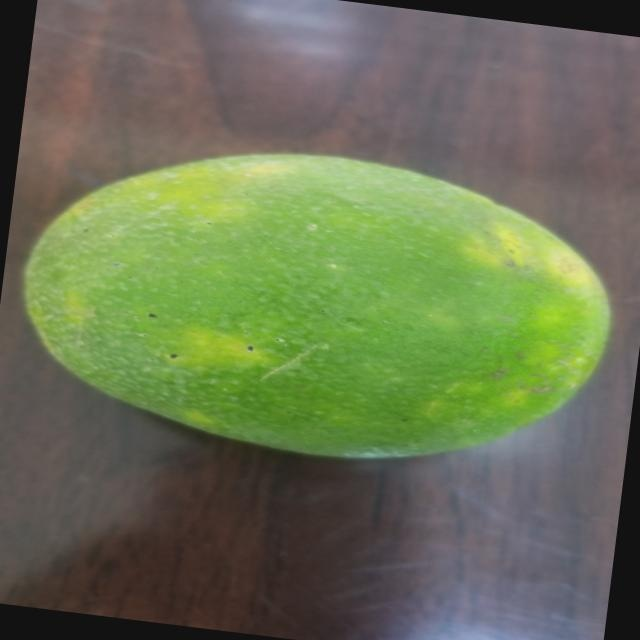agrume: (0, 92, 640, 512)
